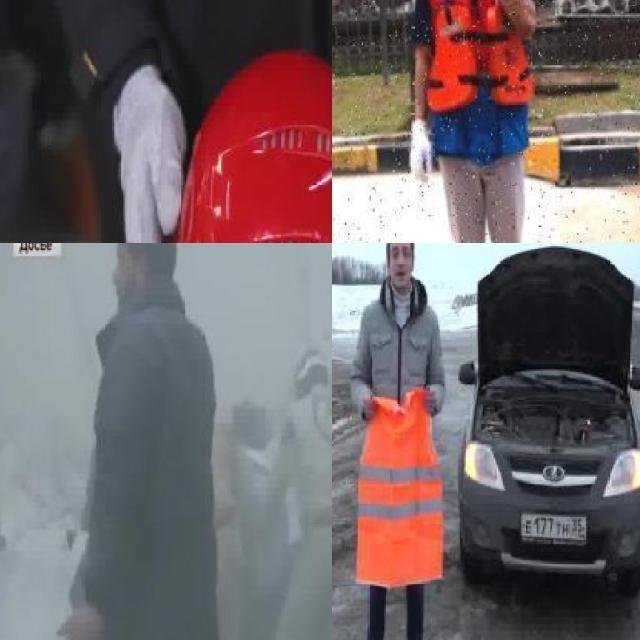apron: (114, 63, 188, 243), (404, 118, 436, 186)
